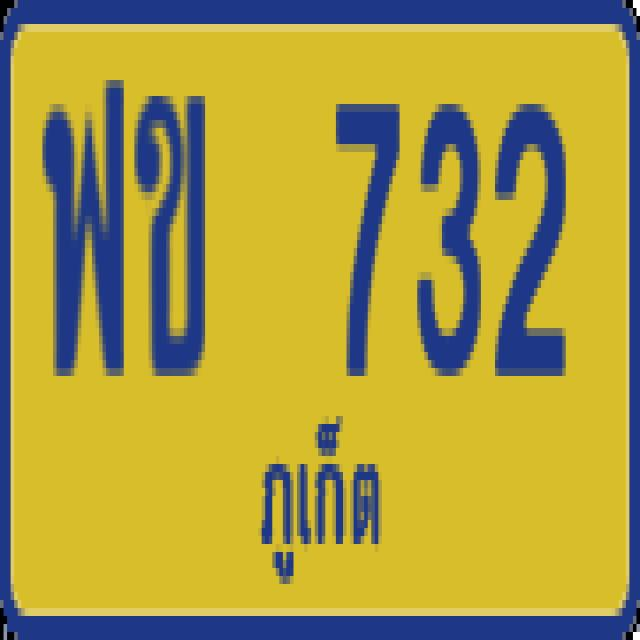2: (491, 60, 577, 431)
3: (410, 80, 491, 424)
7: (310, 52, 404, 394)
A02: (139, 69, 211, 406)
A31: (38, 72, 132, 405)
PKT: (247, 385, 393, 611)
